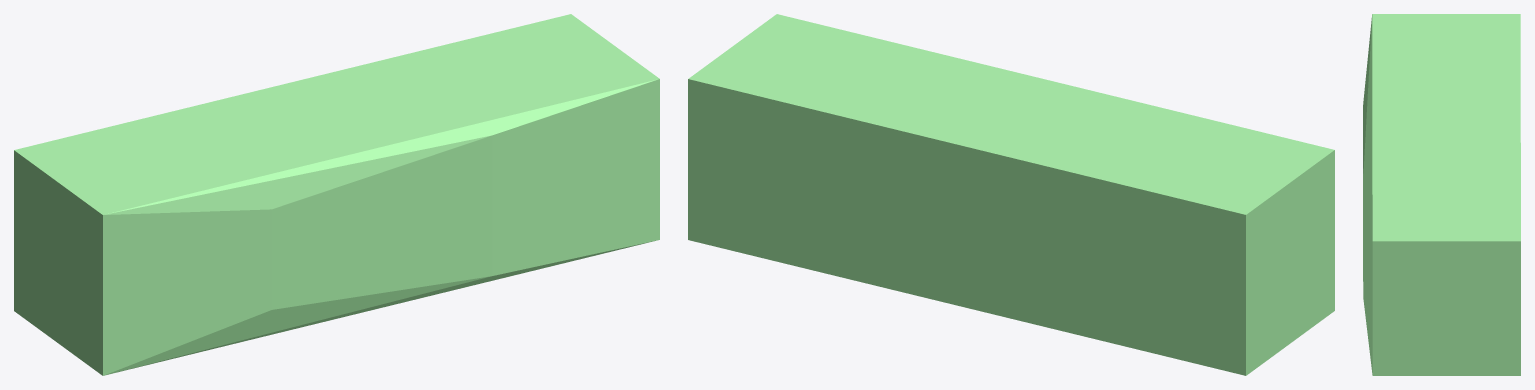
Rendered from dvkr_robot_robot_base_coll_6.dae.
3 renders of one model, left to right at view 1: azimuth 30°, elevation 25°; view 2: azimuth 150°, elevation 25°; view 3: azimuth 270°, elevation 25°, orthographic. The views are drawn at different scales.
Parts seen in each view (by area): view 1: Node_0000023514CD84E0; view 2: Node_0000023514CD84E0; view 3: Node_0000023514CD84E0.
Part boxes in pixels (bbox=[...]): Node_0000023514CD84E0: bbox=[14, 14, 659, 375]; Node_0000023514CD84E0: bbox=[688, 14, 1334, 375]; Node_0000023514CD84E0: bbox=[1363, 14, 1520, 375].
Bounding box in the file's own units: 0.5801 × 0.16 × 0.1703.
